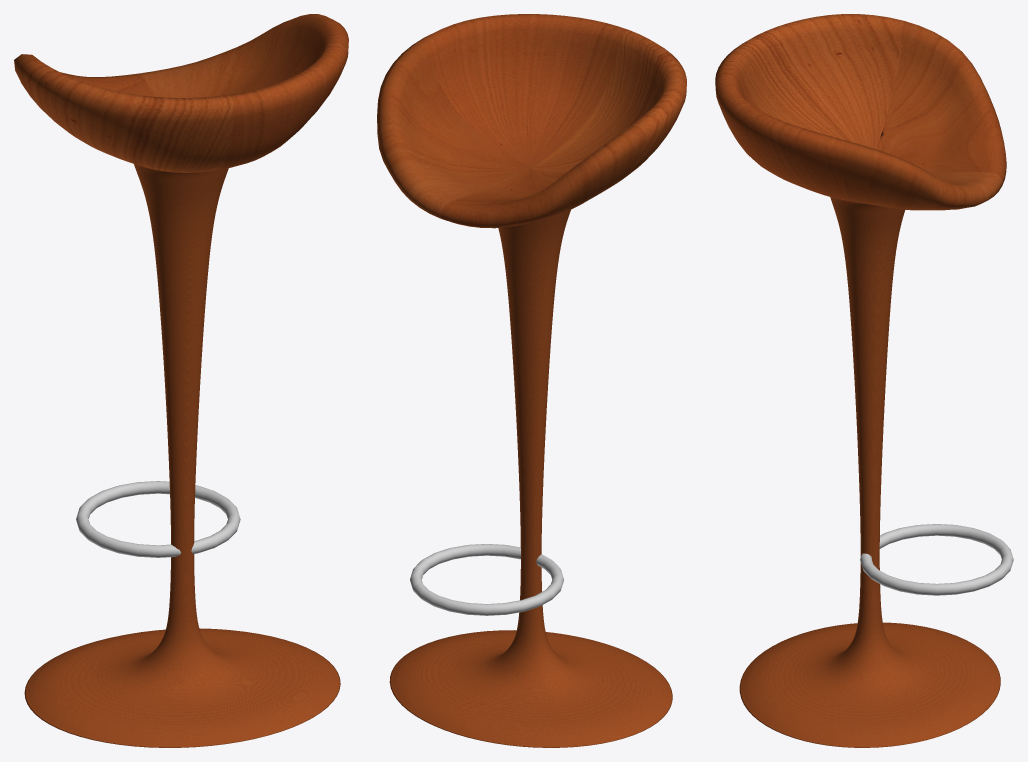
The model's file is chair.obj.
3 views of the same model, side by side, from view 1: azimuth 30°, elevation 25°; view 2: azimuth 150°, elevation 25°; view 3: azimuth 270°, elevation 25° (orthographic). The views are drawn at different scales.
Parts seen in each view (by area): view 1: objStul04, objTorus06; view 2: objStul04, objTorus06; view 3: objStul04, objTorus06.
Part boxes in pixels (x1,y1,x2,y2): objStul04: (14, 14, 348, 747); objTorus06: (76, 481, 240, 557); objStul04: (377, 14, 686, 747); objTorus06: (410, 544, 563, 615); objStul04: (715, 14, 1006, 747); objTorus06: (860, 524, 1013, 595).
Bounding box in the file's own units: 422 × 910 × 403.
Materials: 2 (1 with a texture image).
